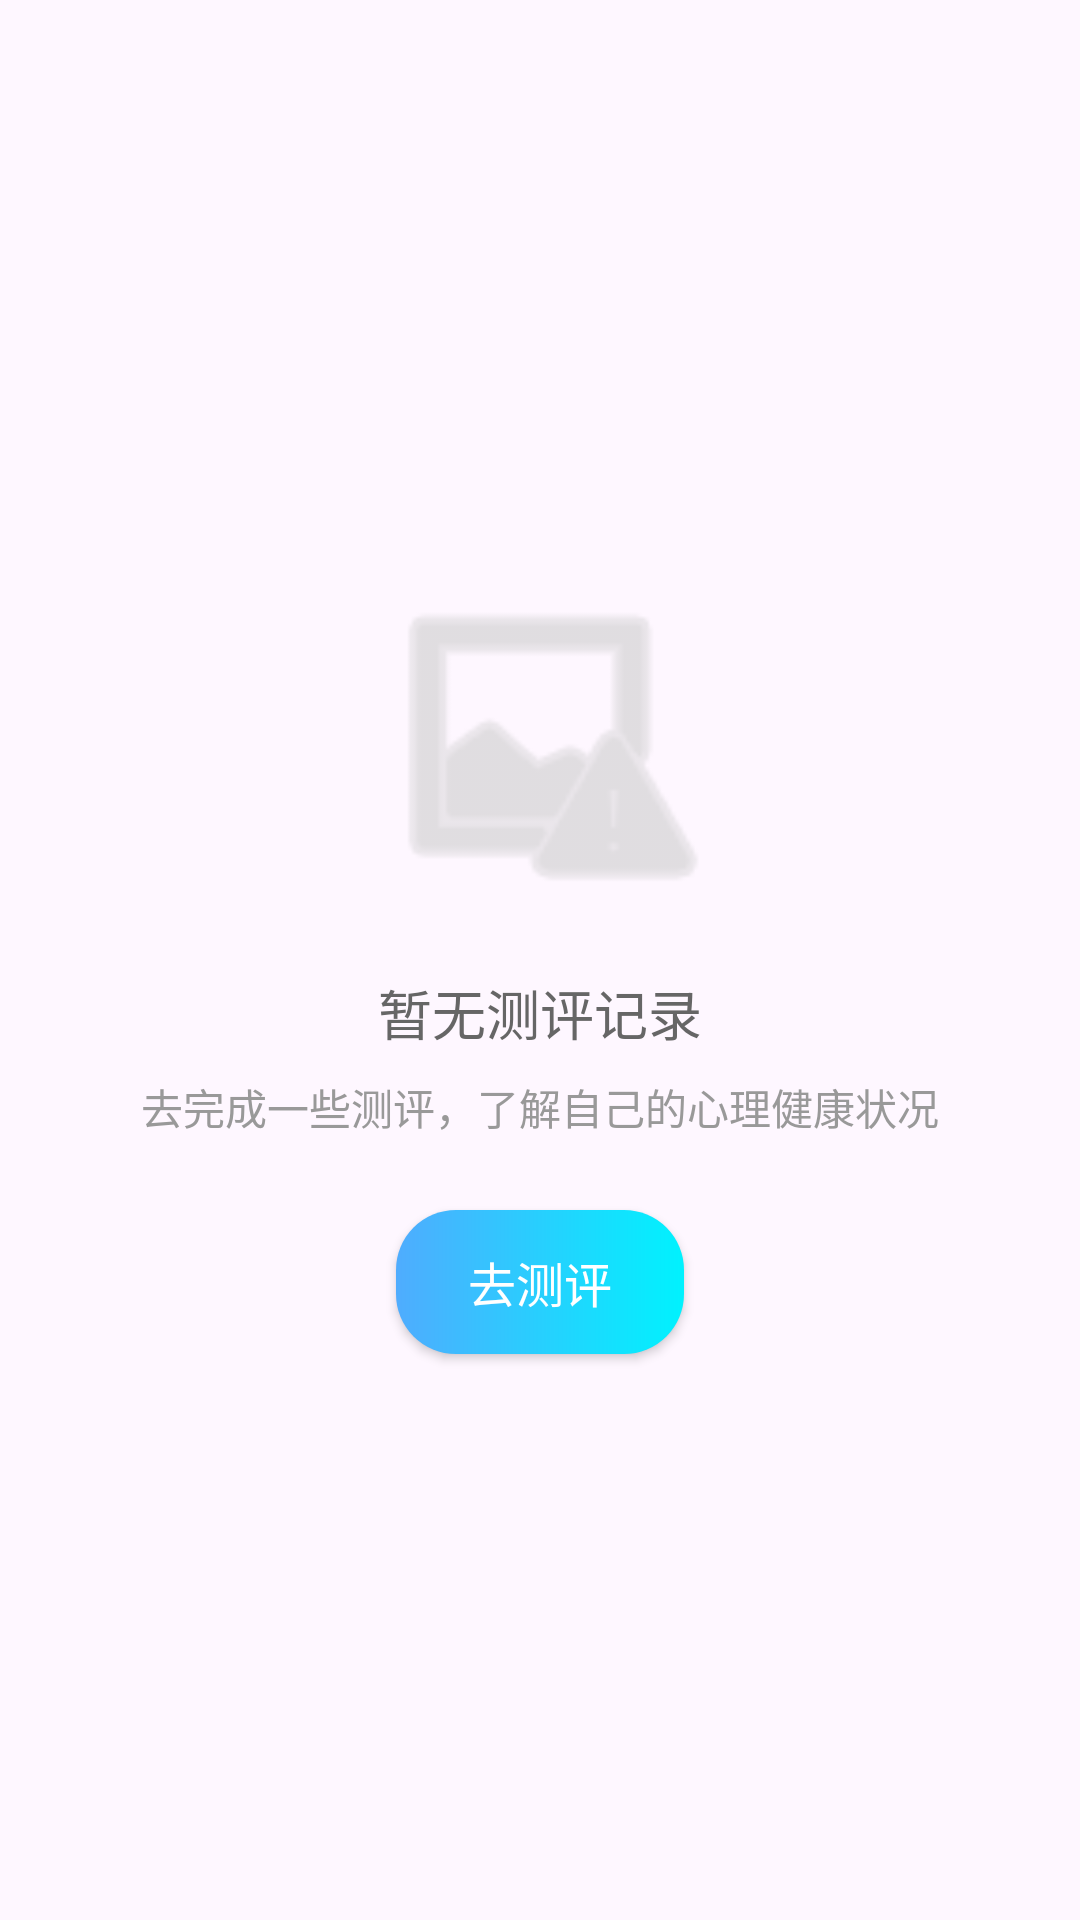

Screen size 1080px×1920px. Icon name, then its center in pixels as (x,y):
空状态图标: (553,747)
